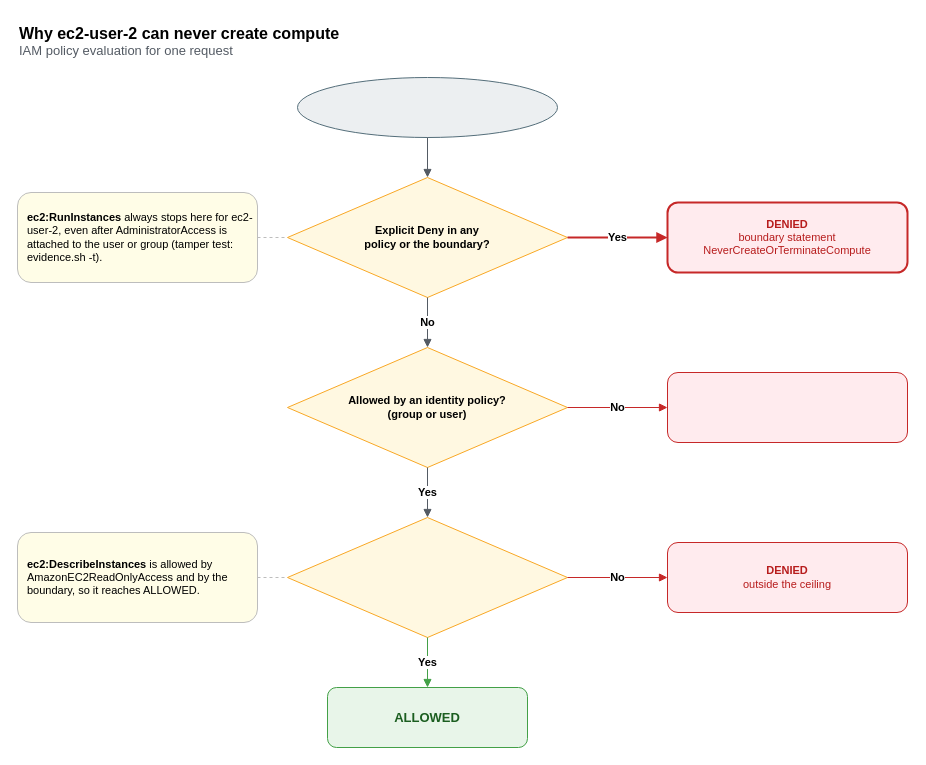
Some shapes in this 926 by 765 pixel diagram are drawn without their labels. The centre of each missing label's shape, as x and y in pixels:
"Allowed by the permissions boundary?" belongs at point 427,577.
"DENIED implicit deny" belongs at point 787,407.
"ec2-user-2 requests ec2:RunInstances" belongs at point 427,107.
